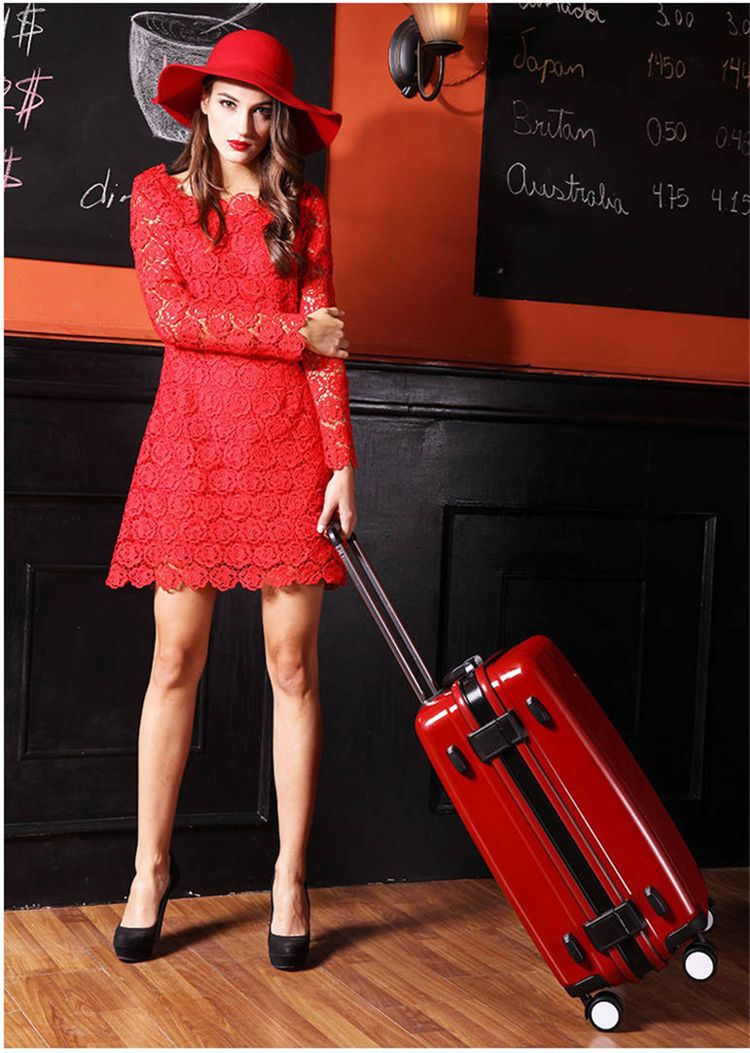luggage: (325, 513, 721, 1032)
